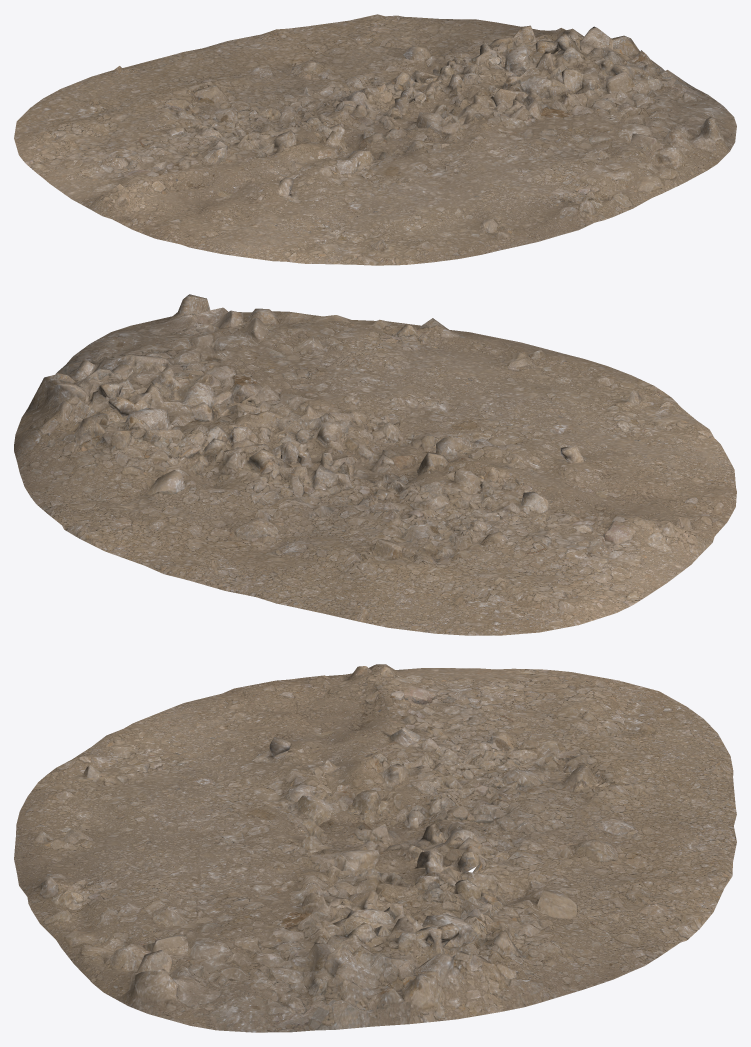
Rendered from sandstone_rocky_ground_vd3oeic_mid_59_23jb.glb.
3 views of the same model, one above another, from view 1: azimuth 30°, elevation 25°; view 2: azimuth 150°, elevation 25°; view 3: azimuth 270°, elevation 25° (orthographic). The views are drawn at different scales.
Parts seen in each view (by area): view 1: vd3oeic_LOD0_TIER2_000; view 2: vd3oeic_LOD0_TIER2_000; view 3: vd3oeic_LOD0_TIER2_000.
Part boxes in pixels (x1,y1,x2,y2): vd3oeic_LOD0_TIER2_000: (14,14,736,265); vd3oeic_LOD0_TIER2_000: (14,294,736,635); vd3oeic_LOD0_TIER2_000: (14,664,736,1032).
Bounding box in the file's own units: 2.64 × 0.1691 × 2.22.
Materials: 1 (1 with a texture image).
